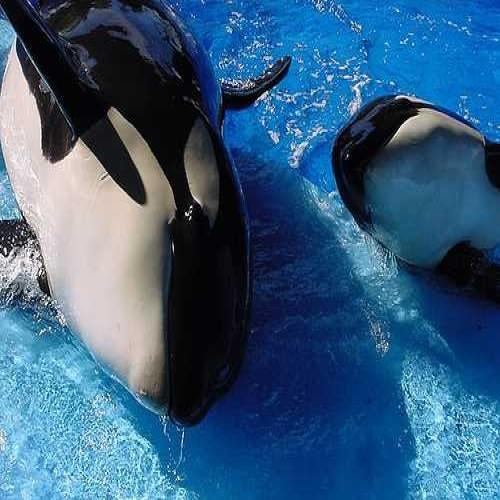killer_whale-endangered: (2, 0, 290, 434), (308, 53, 500, 271)
